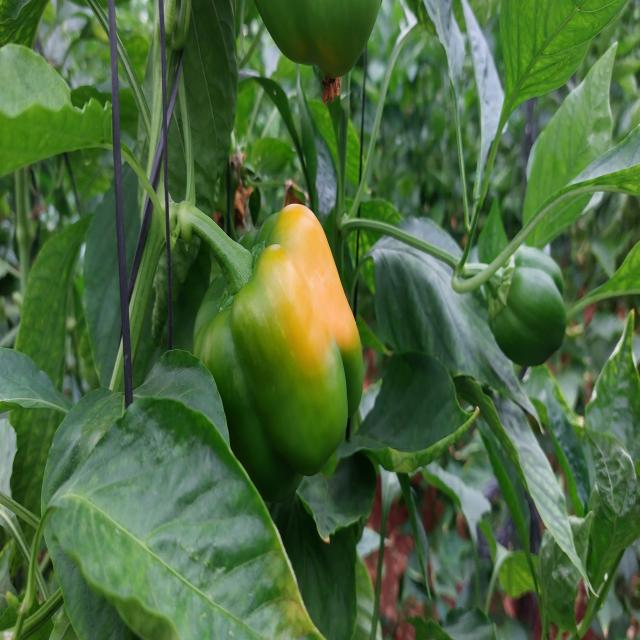GreenishYellow--Can-be-Harvested: (184, 212, 382, 528)
